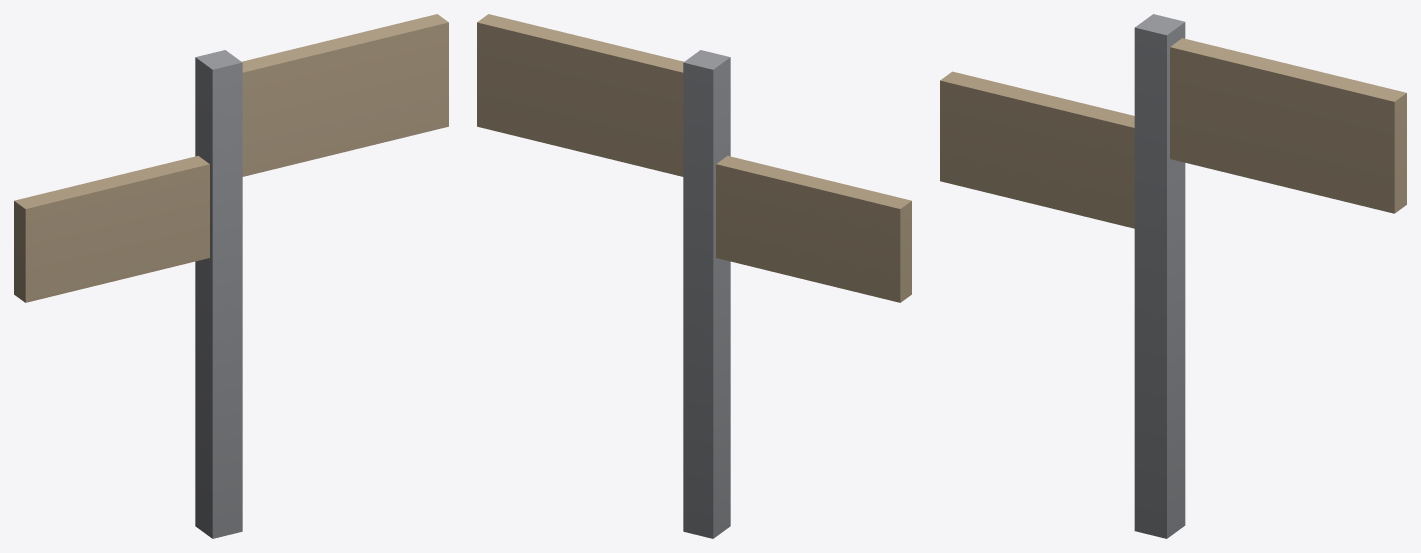
The model's file is signpost.glb.
3 renders of one model, left to right at view 1: azimuth 30°, elevation 25°; view 2: azimuth 150°, elevation 25°; view 3: azimuth 330°, elevation 25°, orthographic. The views are drawn at different scales.
Parts seen in each view (by area): view 1: root; view 2: root; view 3: root.
Part boxes in pixels (left/top/right/bottom): root: left=14, top=14, right=448, bottom=538; root: left=477, top=14, right=911, bottom=538; root: left=940, top=14, right=1406, bottom=538.
Bounding box in the file's own units: 1.7 × 1.8 × 0.12.
